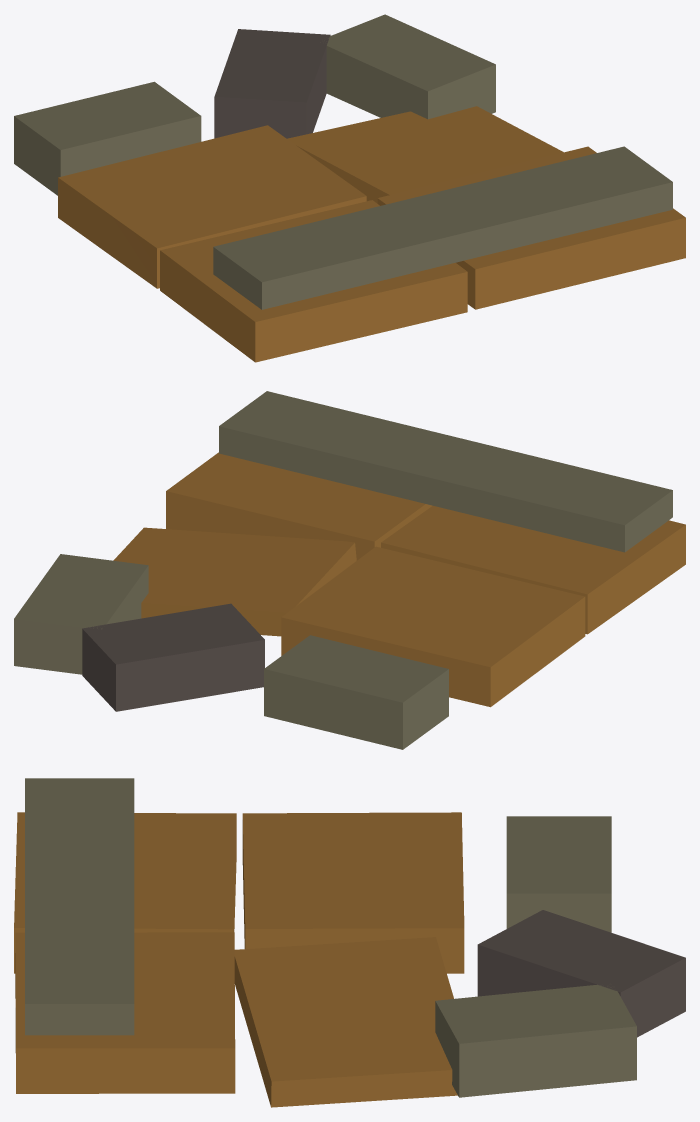
File: SM_BanquetaCorta_v3_LOD1.fbx
3 views of the same model, one above another, from view 1: azimuth 30°, elevation 25°; view 2: azimuth 150°, elevation 25°; view 3: azimuth 270°, elevation 25° (orthographic). The views are drawn at different scales.
Parts seen in each view (by area): view 1: SM_banqueta_tiro_v13_LOD1; view 2: SM_banqueta_tiro_v13_LOD1; view 3: SM_banqueta_tiro_v13_LOD1.
Boxes of the visible parts, x1,y1,x2,y2 form: SM_banqueta_tiro_v13_LOD1: [14, 14, 685, 362]; SM_banqueta_tiro_v13_LOD1: [14, 391, 685, 749]; SM_banqueta_tiro_v13_LOD1: [14, 778, 685, 1107].
Size of the model in its own units: 2.49 by 0.4666 by 2.94.
